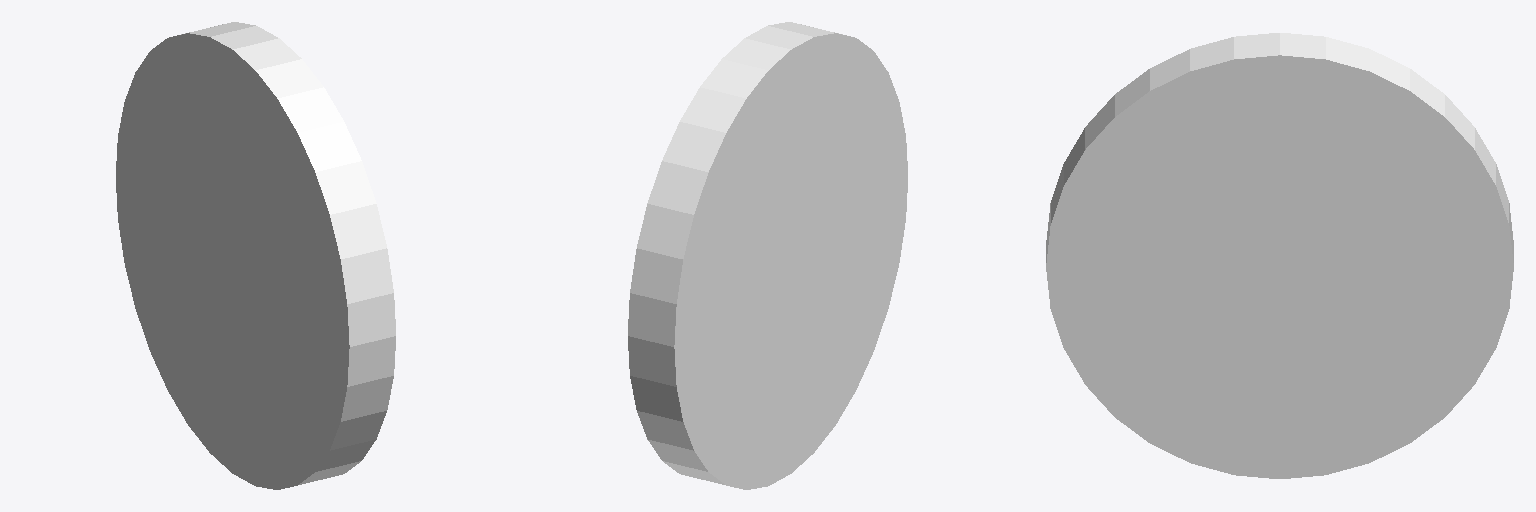
Rendered from comprime.obj.
The picture shows the model from 3 angles: view 1: azimuth 30°, elevation 25°; view 2: azimuth 150°, elevation 25°; view 3: azimuth 270°, elevation 25°; orthographic projection.
Parts seen in each view (by area): view 1: Cylinder; view 2: Cylinder; view 3: Cylinder.
Part boxes in pixels (x1,y1,x2,y2): Cylinder: (116, 22, 395, 489); Cylinder: (628, 22, 907, 489); Cylinder: (1046, 33, 1513, 478).
Size of the model in its own units: 0.3 by 2.6 by 2.6.